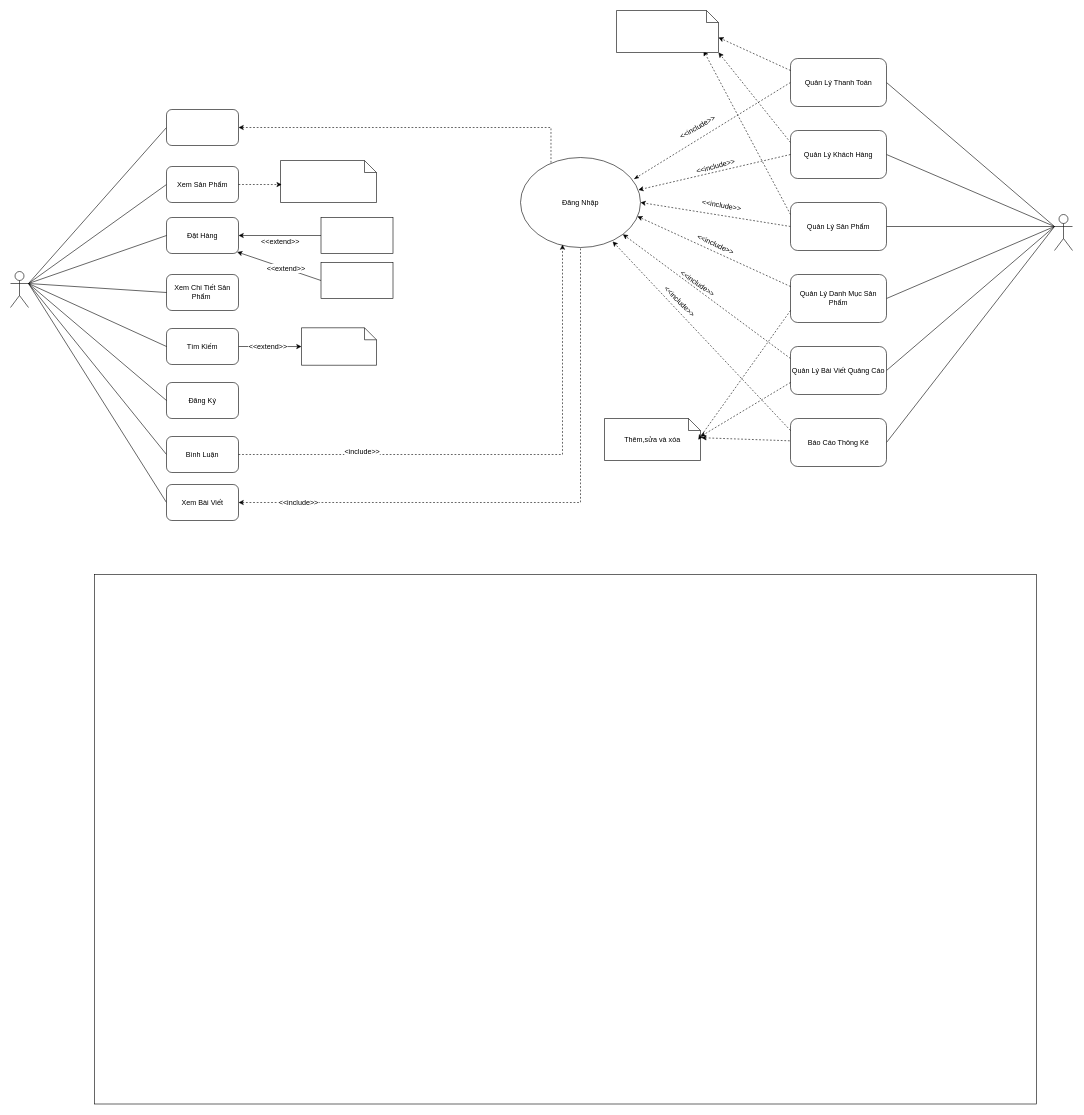
The diagram is 1084 pixels wide and 1115 high, and some of its shapes have lost their labels. The shapes that lost their labels are listed below. From the top down, each one's box as (x1, y1, x2, y2) in pixels, then its label:
(616, 10, 718, 52): Thêm,sửa,ẩn và search
(166, 109, 238, 146): Đăng Xuất
(280, 160, 376, 202): Xem sản phẩm bán chạy, khuyến mãi
(320, 217, 393, 254): Thêm Giỏ Hàng
(1054, 214, 1072, 250): Admin
(10, 271, 28, 308): User
(320, 262, 393, 298): Thanh Toán
(301, 327, 376, 365): Tìm kiếm bằng từ khóa
